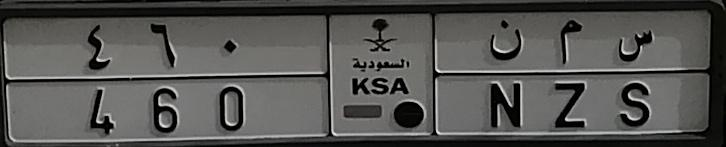0: (215, 37, 249, 133)
4: (85, 24, 118, 136)
6: (147, 21, 182, 133)
N: (487, 19, 526, 129)
Z: (551, 15, 588, 129)
